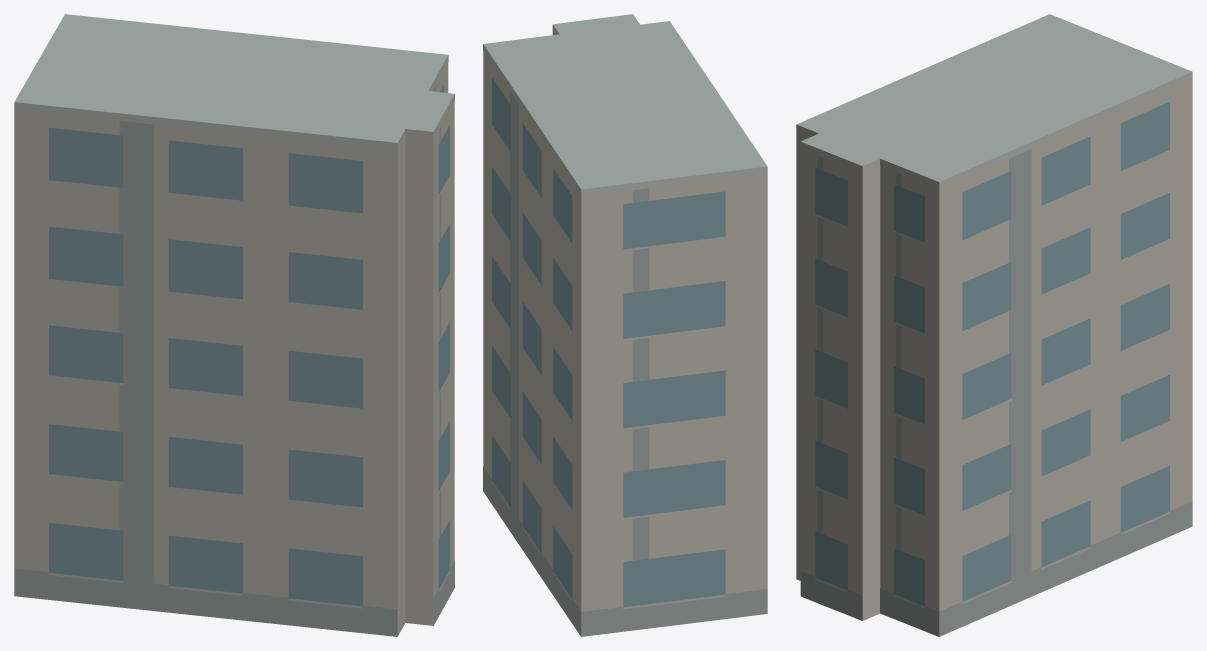
The model's file is survey-upis-32905373.glb.
3 views of the same model, side by side, from view 1: azimuth 30°, elevation 25°; view 2: azimuth 150°, elevation 25°; view 3: azimuth 270°, elevation 25° (orthographic). The views are drawn at different scales.
Visible parts, largest first — view 1: survey-upis-32905373.tmp; view 2: survey-upis-32905373.tmp; view 3: survey-upis-32905373.tmp.
Boxes of the visible parts, box(x1,y1,x2,y2) form: survey-upis-32905373.tmp: box(14, 14, 454, 636); survey-upis-32905373.tmp: box(483, 14, 767, 636); survey-upis-32905373.tmp: box(796, 14, 1192, 636).
Bounding box in the file's own units: 12.33 × 15.55 × 12.29.
